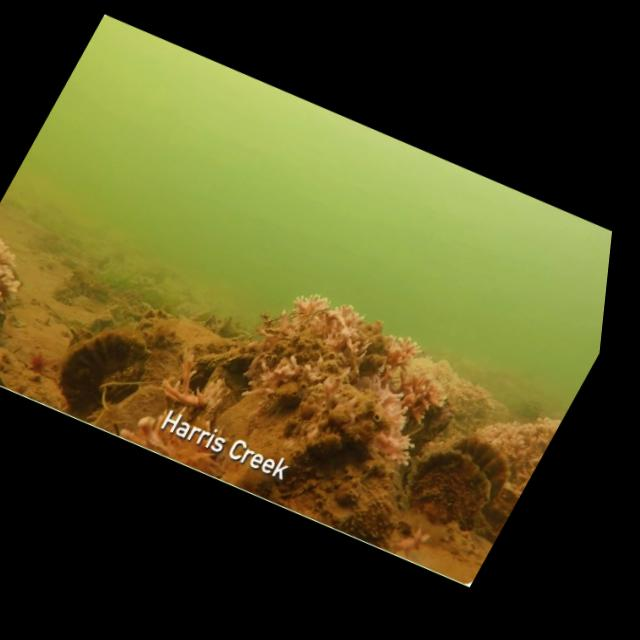Oyster-Closed: (263, 374, 311, 414), (196, 392, 227, 429), (189, 306, 213, 329)
Oyster-Indeterminate: (36, 307, 166, 434), (387, 434, 512, 547), (308, 448, 432, 560), (249, 319, 365, 402), (429, 426, 526, 516), (0, 331, 87, 421), (101, 370, 181, 442), (174, 339, 243, 407), (293, 421, 364, 481), (220, 342, 263, 383), (48, 271, 84, 307), (134, 283, 169, 316), (75, 274, 111, 304), (171, 296, 206, 326), (89, 249, 116, 273), (104, 247, 131, 270), (107, 299, 131, 321)
